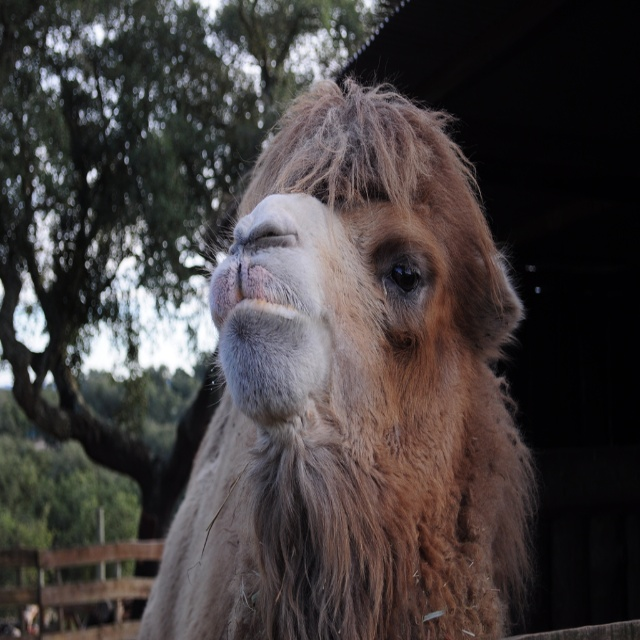Camel: (137, 57, 546, 640)
